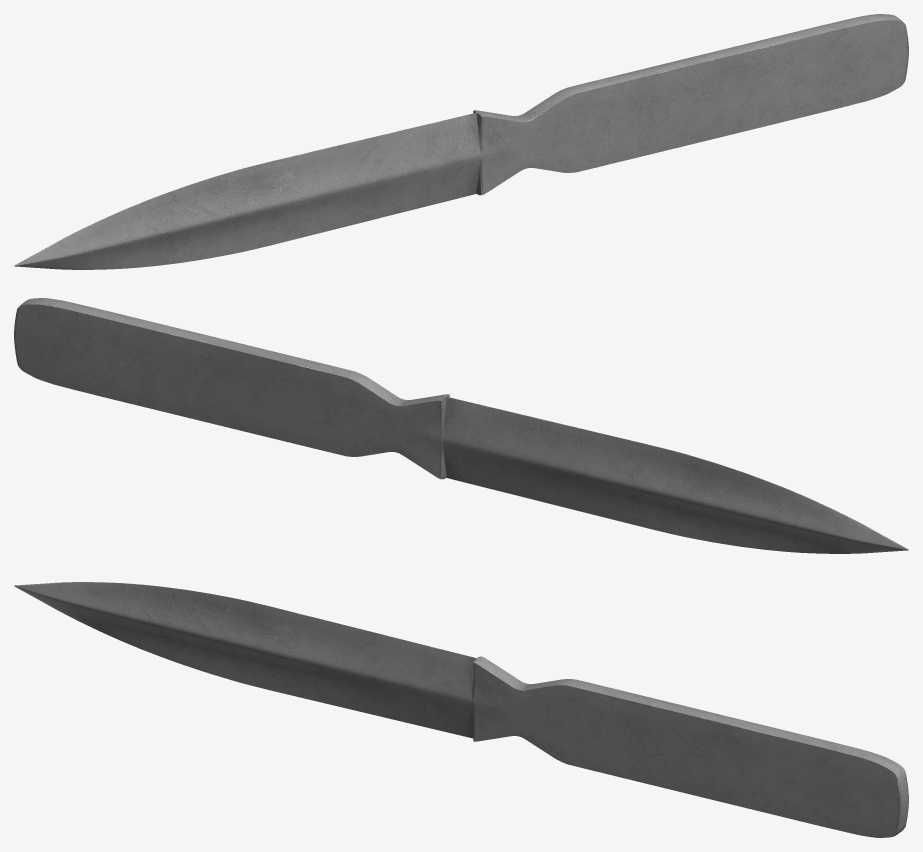
Rendered from throwing_knife.glb.
The picture shows the model from 3 angles, top to bottom: view 1: azimuth 30°, elevation 25°; view 2: azimuth 150°, elevation 25°; view 3: azimuth 330°, elevation 25°; orthographic projection.
Visible parts, largest first — view 1: ThrowingKnife06_0; view 2: ThrowingKnife06_0; view 3: ThrowingKnife06_0.
Boxes of the visible parts, bbox=[...] form: ThrowingKnife06_0: bbox=[14, 14, 908, 269]; ThrowingKnife06_0: bbox=[14, 298, 908, 553]; ThrowingKnife06_0: bbox=[14, 582, 908, 837].
Size of the model in its own units: 3.73 by 0.3354 by 0.0642.
1 material, 1 textured.
